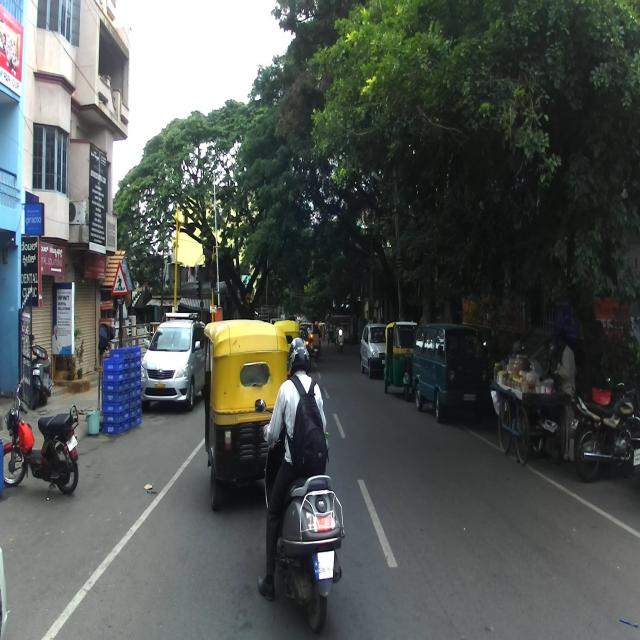Car_Maruti-Suzuki: (411, 321, 489, 424)
Car_Toyota: (140, 310, 206, 412)
autorickshaw: (199, 318, 289, 512)
motorcycle_TVS: (2, 396, 85, 498)
motorcycle_bajaj: (567, 368, 639, 483)
scooter: (254, 398, 345, 634)
